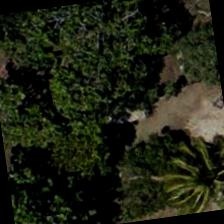Kelapa_Sawit: (138, 128, 223, 220)
